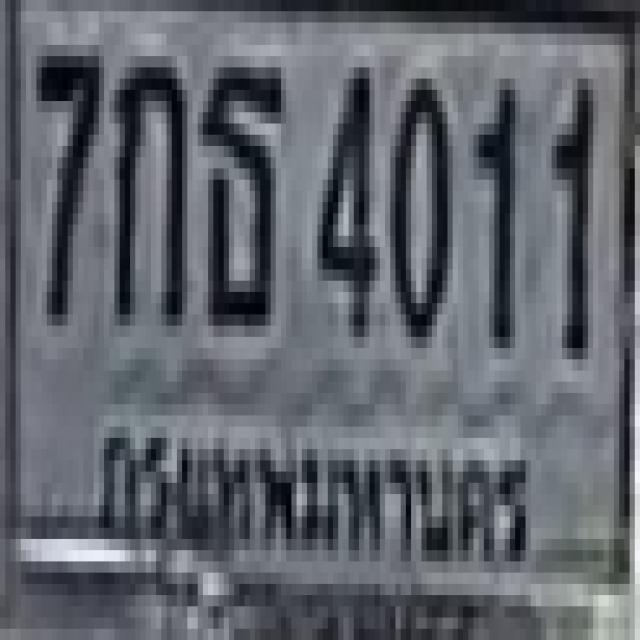0: (385, 67, 448, 337)
1: (552, 73, 588, 342), (473, 78, 510, 336)
4: (312, 56, 370, 326)
7: (31, 45, 99, 314)
A01: (109, 45, 182, 314)
A24: (198, 56, 281, 314)
BKK: (89, 390, 538, 586)
